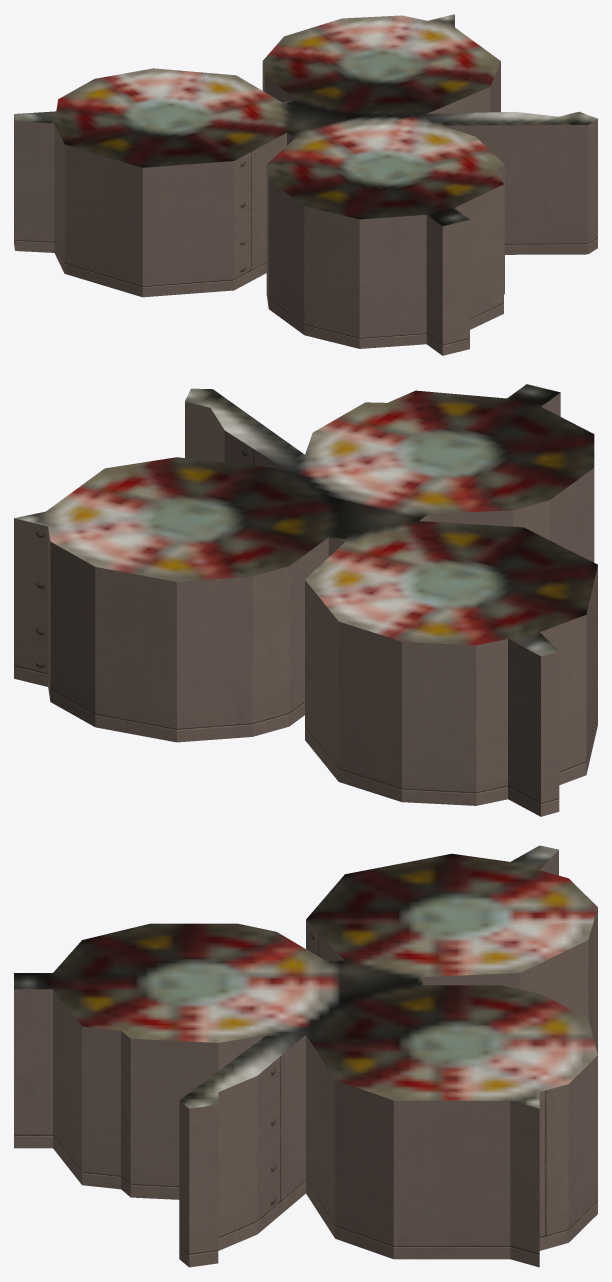
Rendered from fuel_tank_hard_46.glb.
The picture shows the model from 3 angles, top to bottom: view 1: azimuth 30°, elevation 25°; view 2: azimuth 150°, elevation 25°; view 3: azimuth 270°, elevation 25°; orthographic projection. The views are drawn at different scales.
Visible parts, largest first — view 1: buildings/saxarba/fuel_tanks/fuel_tank_hard_46; view 2: buildings/saxarba/fuel_tanks/fuel_tank_hard_46; view 3: buildings/saxarba/fuel_tanks/fuel_tank_hard_46.
Boxes of the visible parts, x1,y1,x2,y2 form: buildings/saxarba/fuel_tanks/fuel_tank_hard_46: [14, 14, 597, 355]; buildings/saxarba/fuel_tanks/fuel_tank_hard_46: [14, 384, 597, 816]; buildings/saxarba/fuel_tanks/fuel_tank_hard_46: [14, 845, 597, 1267].
Bounding box in the file's own units: 64 × 18 × 60.
